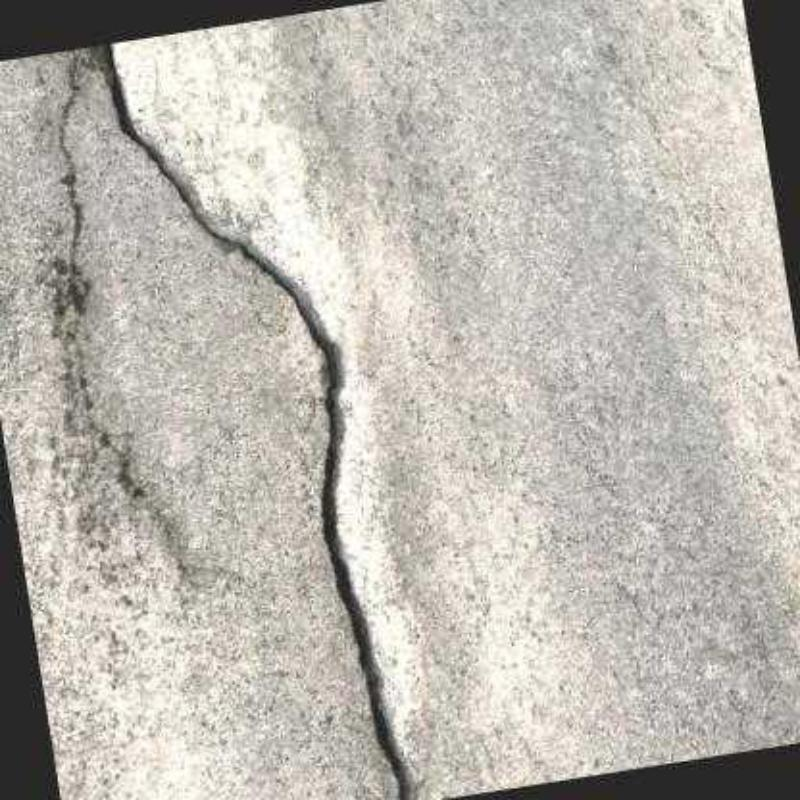pothole: (95, 41, 413, 798), (60, 50, 183, 569)
